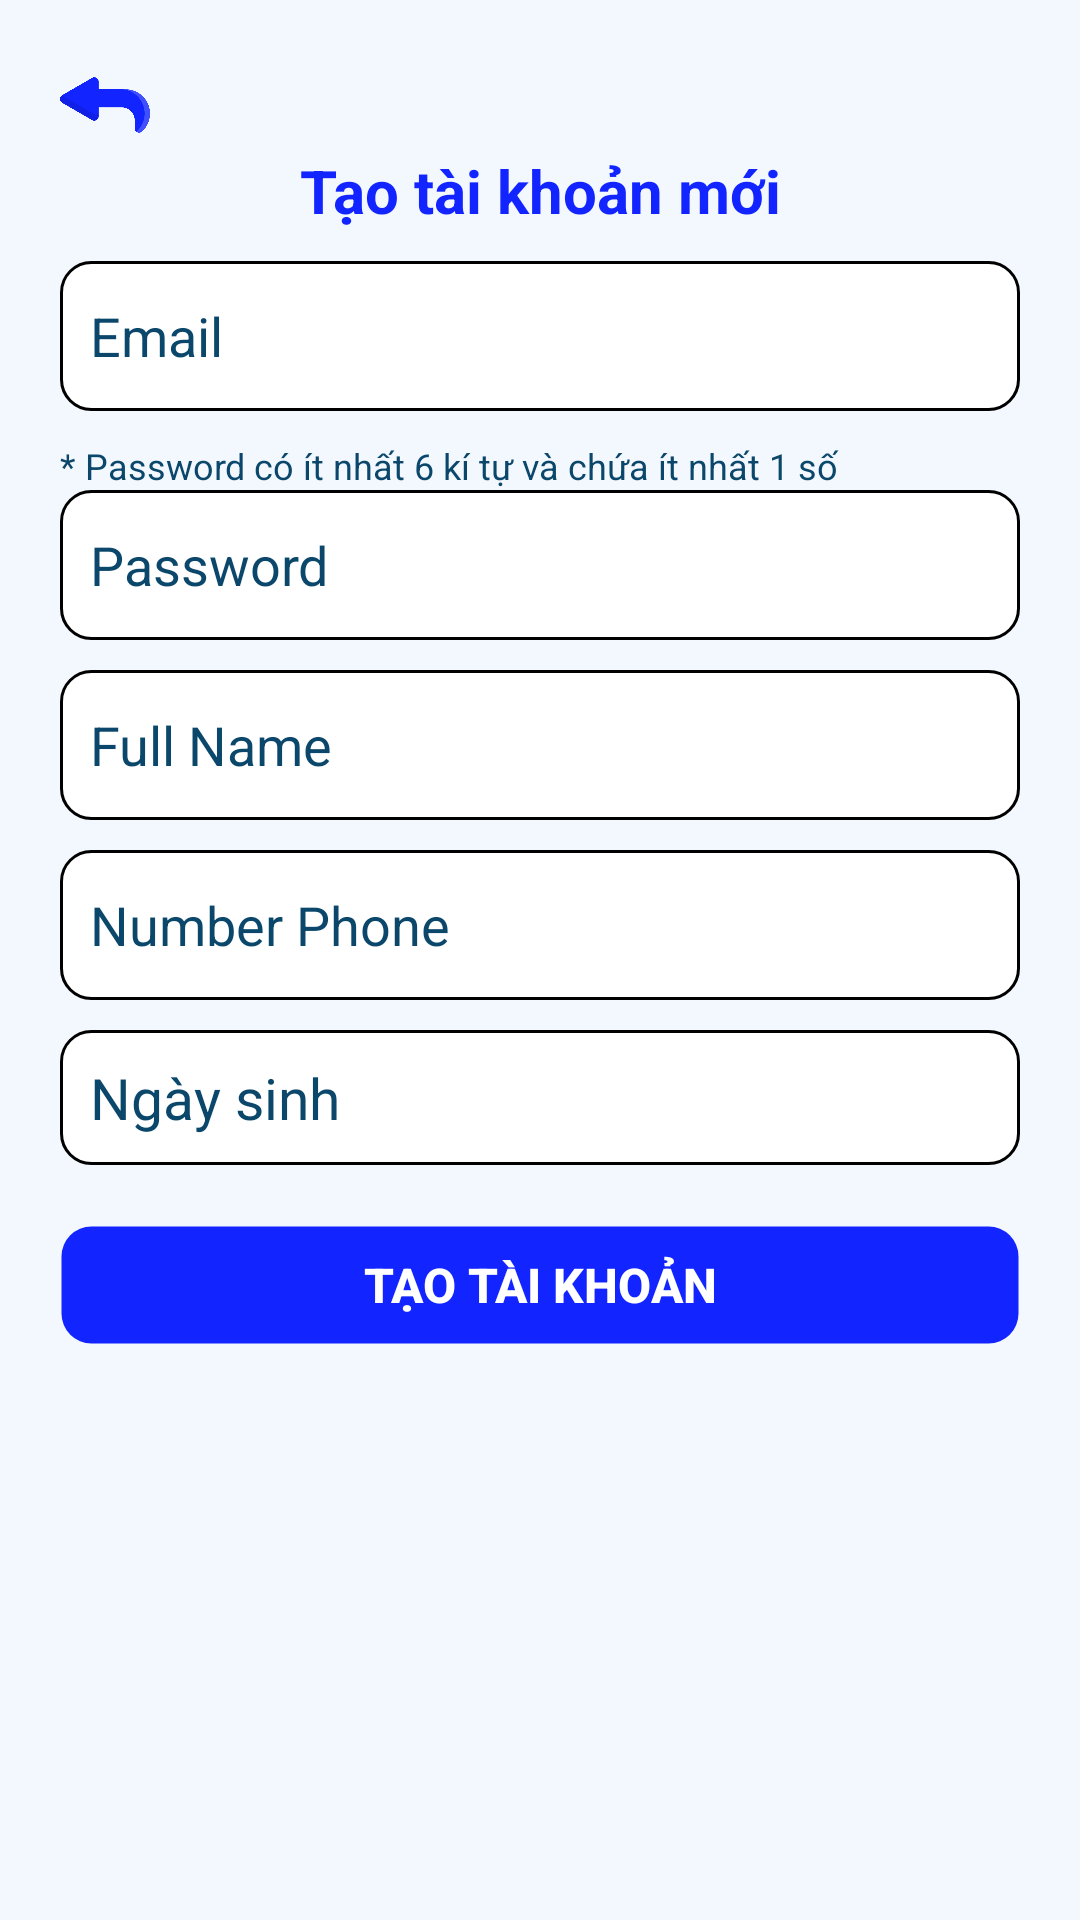

Screen size 1080*1920. Icon name, then its center in pixels as [x,y]:
back: [105,105]
